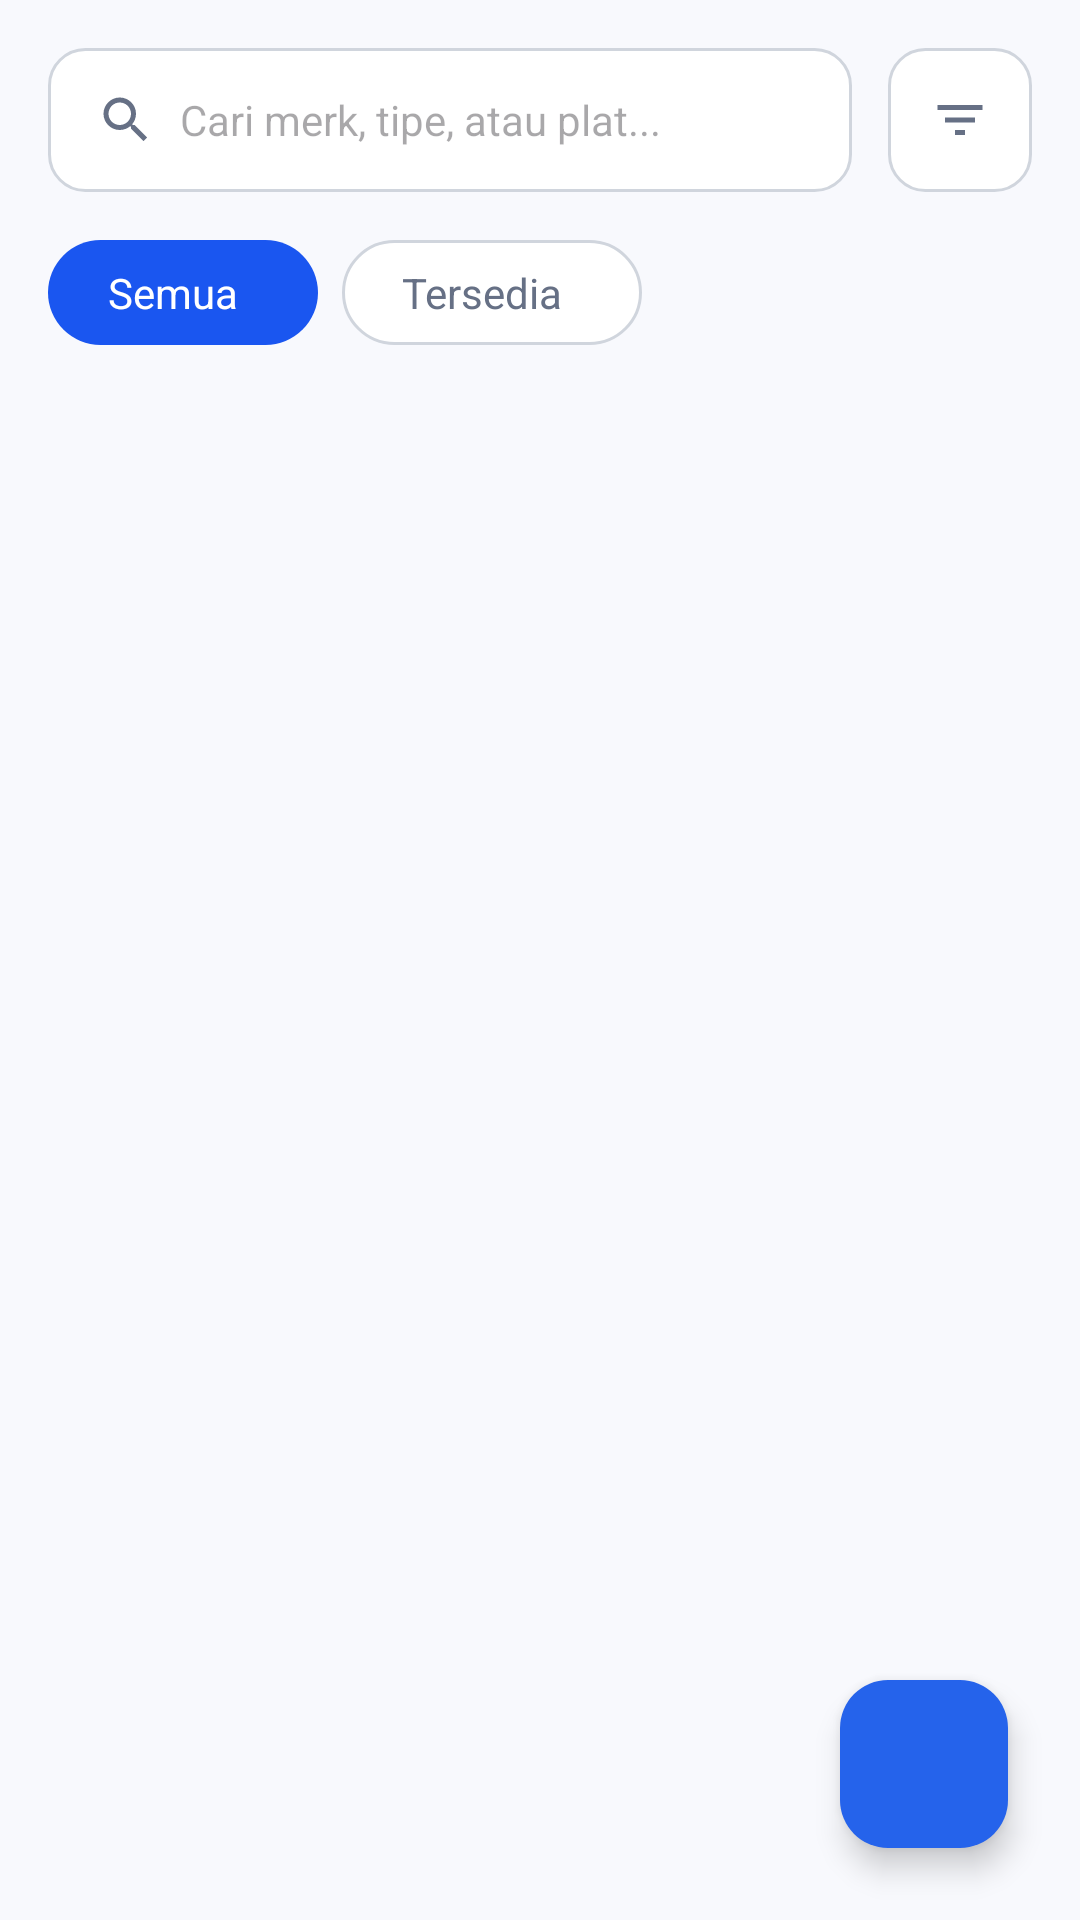

Named icons in this screenshot (1080×1920) and their centers, (x=x, y=y):
Tombol Filter: (x=960, y=120)
